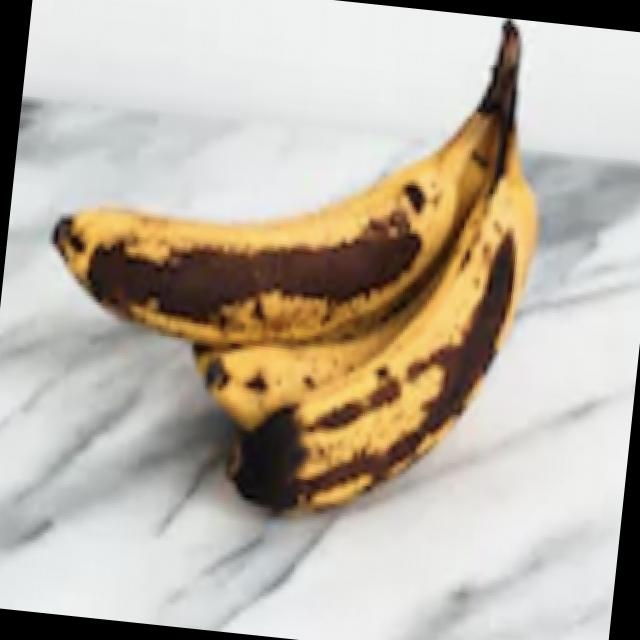rotten-banana: (212, 175, 574, 550), (49, 100, 478, 358)
